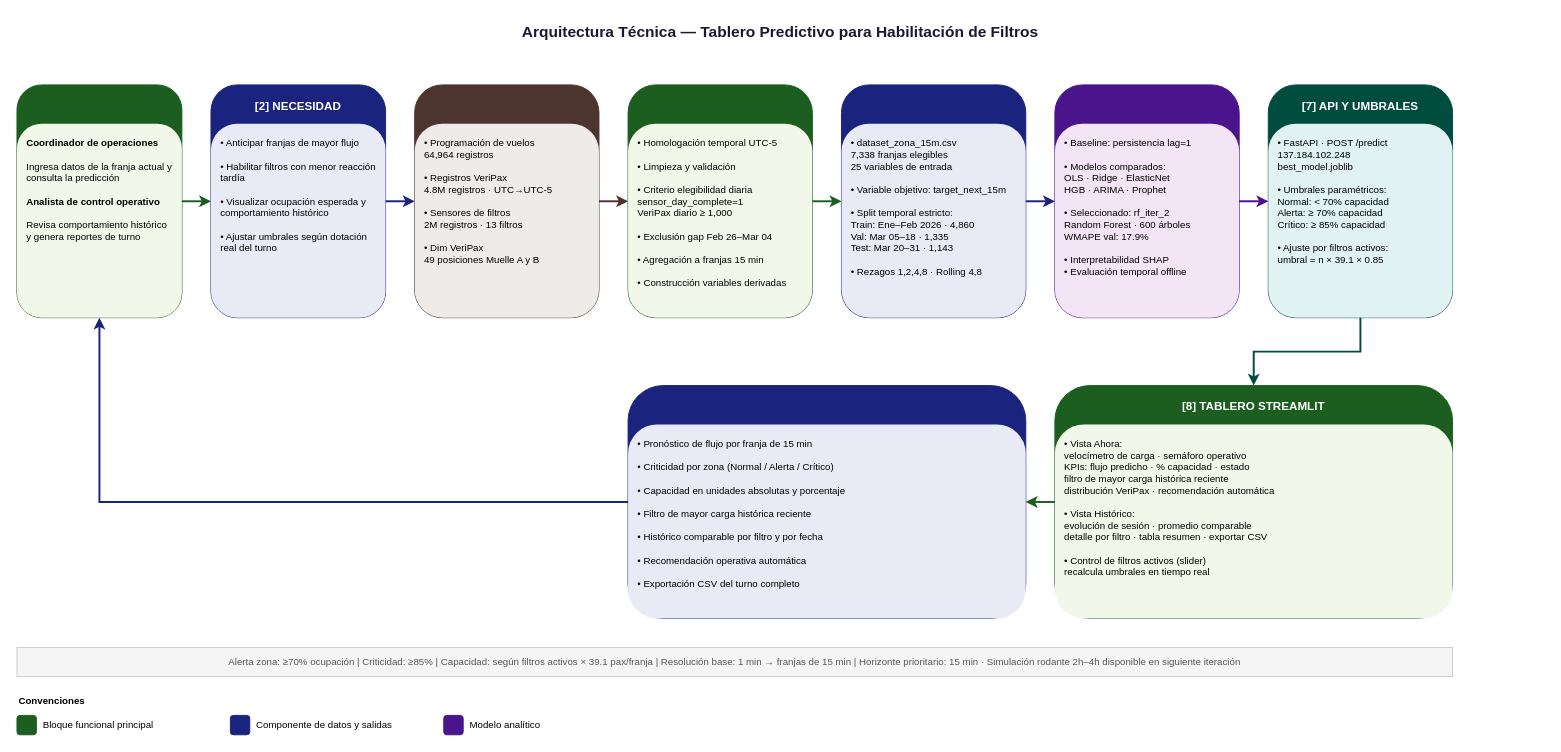
The diagram is 1561 pixels wide and 752 high, and some of its shapes have lost their labels. The shapes that lost their labels are listed below. From the top down, each one's box as (x1, y1, x2, y2) in pixels, then its label:
(16, 84, 182, 318): [1] USUARIO
(414, 84, 599, 318): [3] FUENTES DE DATOS
(627, 84, 812, 318): [4] INTEGRACIÓN Y CALIDAD
(841, 84, 1026, 318): [5] DATASET MAESTRO
(1054, 84, 1239, 318): [6] MODELOS Y ANÁLISIS
(627, 385, 1026, 618): [9] SALIDAS DEL SISTEMA
